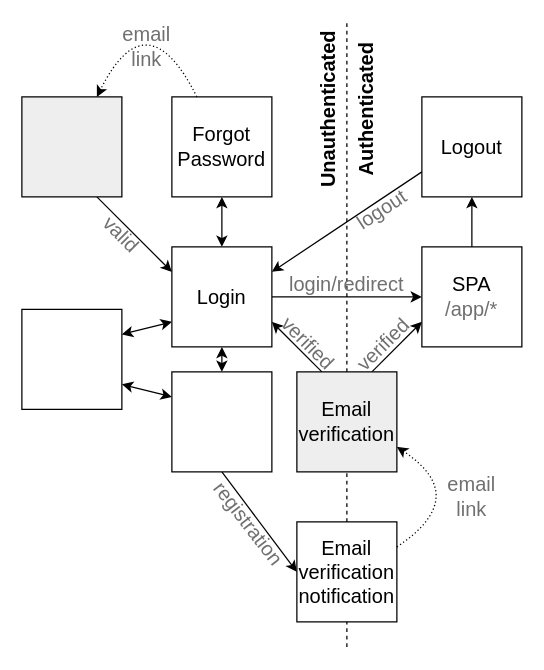
The diagram is 544 pixels wide and 670 high, and some of its shapes have lost their labels. The shapes that lost their labels are listed below. From the top down, each one's centre as x and y in pixels, then its label:
the point at 71,146: Reset Password
the point at 71,358: Home
the point at 221,421: Register
